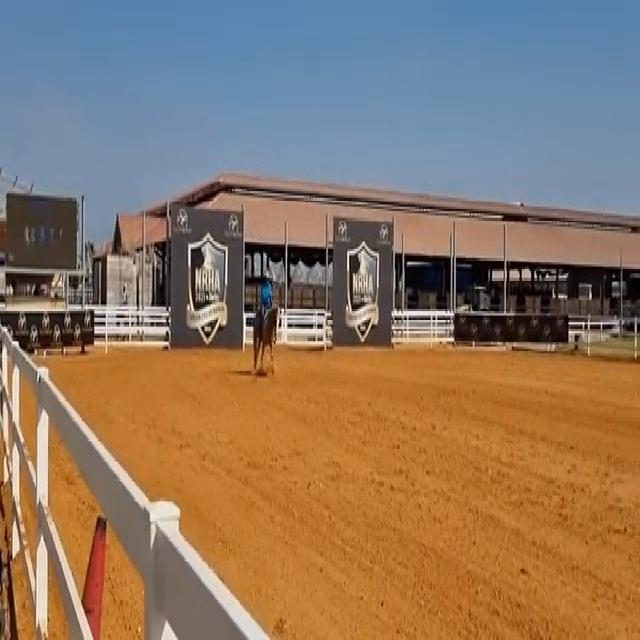horse: (250, 300, 281, 376)
